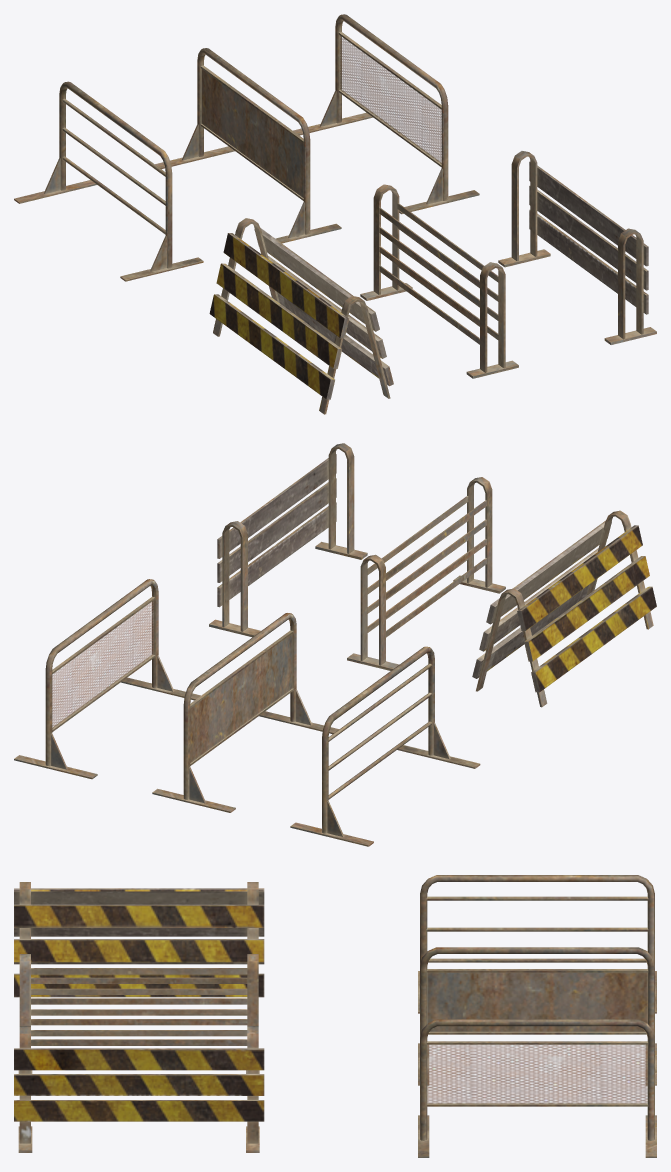
The picture shows the model from 3 angles, top to bottom: view 1: azimuth 30°, elevation 25°; view 2: azimuth 150°, elevation 25°; view 3: azimuth 270°, elevation 25°; orthographic projection. The views are drawn at different scales.
Visible parts, largest first — view 1: var4_0, var6_2, var3_4, var2_5, var5_1, var1_3; view 2: var4_0, var6_2, var3_4, var2_5, var5_1, var1_3; view 3: var4_0, var3_4, var6_2, var2_5, var5_1, var1_3.
Boxes of the visible parts, x1=… form: var4_0: x1=209, y1=218, x2=393, y2=414; var6_2: x1=498, y1=151, x2=656, y2=344; var3_4: x1=293, y1=14, x2=479, y2=214; var2_5: x1=155, y1=48, x2=341, y2=243; var5_1: x1=360, y1=184, x2=518, y2=378; var1_3: x1=14, y1=81, x2=203, y2=281; var4_0: x1=472, y1=510, x2=656, y2=707; var6_2: x1=209, y1=443, x2=367, y2=637; var3_4: x1=14, y1=579, x2=200, y2=779; var2_5: x1=152, y1=613, x2=338, y2=812; var5_1: x1=347, y1=477, x2=505, y2=670; var1_3: x1=290, y1=646, x2=480, y2=846; var4_0: x1=14, y1=882, x2=264, y2=997; var3_4: x1=418, y1=1019, x2=656, y2=1157; var6_2: x1=14, y1=1026, x2=264, y2=1152; var2_5: x1=418, y1=947, x2=656, y2=1085; var5_1: x1=18, y1=954, x2=259, y2=1073; var1_3: x1=418, y1=875, x2=656, y2=1013.
Size of the model in its own units: 3.21 by 0.9814 by 4.71.
Materials: 1 (1 with a texture image).
